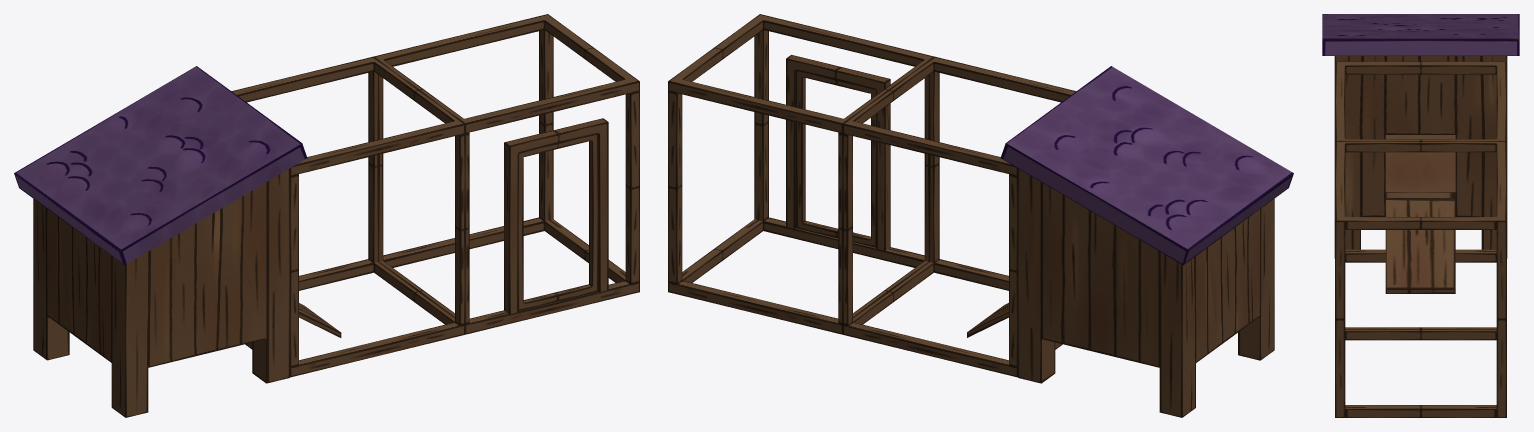
The model's file is Coop.fbx.
3 views of the same model, side by side, from view 1: azimuth 30°, elevation 25°; view 2: azimuth 150°, elevation 25°; view 3: azimuth 270°, elevation 25° (orthographic). The views are drawn at different scales.
Parts seen in each view (by area): view 1: Room, Area, Roof, Marco, Door; view 2: Room, Area, Roof, Marco, Door; view 3: Room, Area, Roof, Ramp.
Boxes of the visible parts, <box> form: Room: <box>33,168,289,417</box>; Area: <box>231,14,639,377</box>; Roof: <box>14,66,307,265</box>; Marco: <box>504,118,608,314</box>; Door: <box>518,134,598,310</box>; Room: <box>1018,168,1274,417</box>; Area: <box>668,14,1076,377</box>; Roof: <box>1000,66,1293,265</box>; Marco: <box>786,55,890,250</box>; Door: <box>796,70,876,247</box>; Room: <box>1334,56,1507,258</box>; Area: <box>1335,61,1506,417</box>; Roof: <box>1322,14,1519,55</box>; Ramp: <box>1385,199,1455,293</box>.
Size of the model in its own units: 513 by 222 by 178.
Materials: 1 (1 with a texture image).
